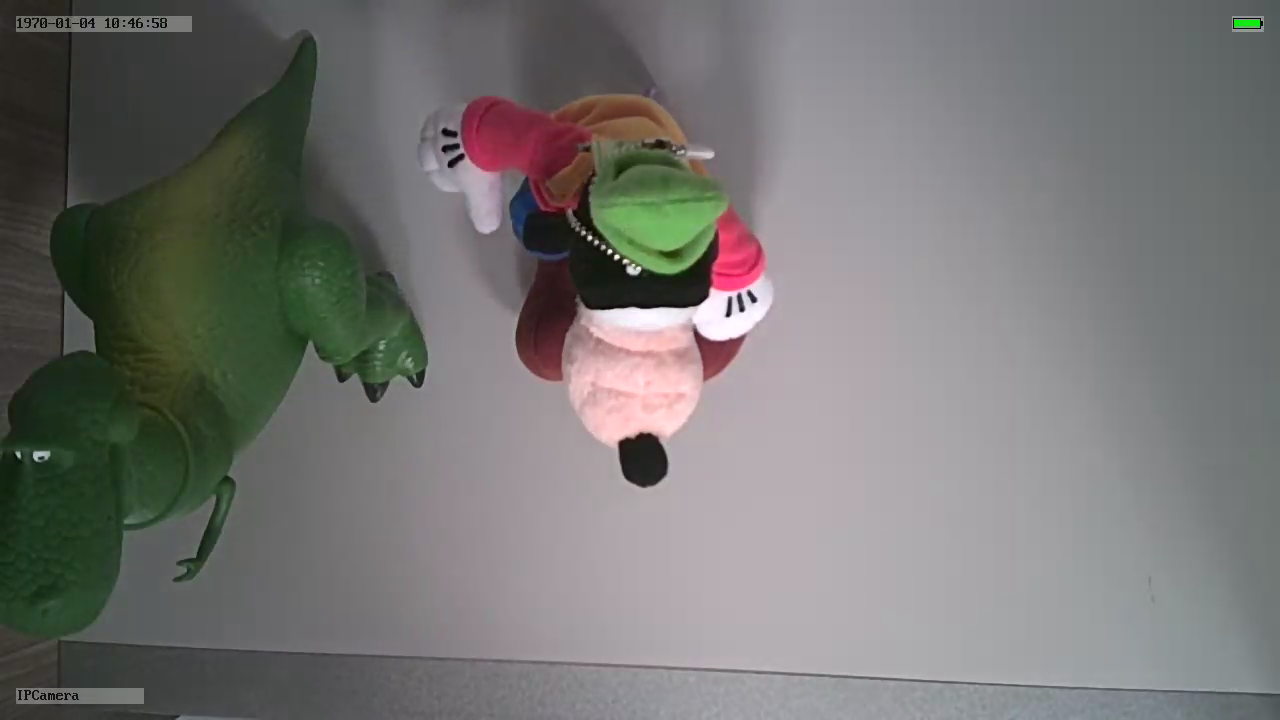goofy: (416, 94, 776, 492)
